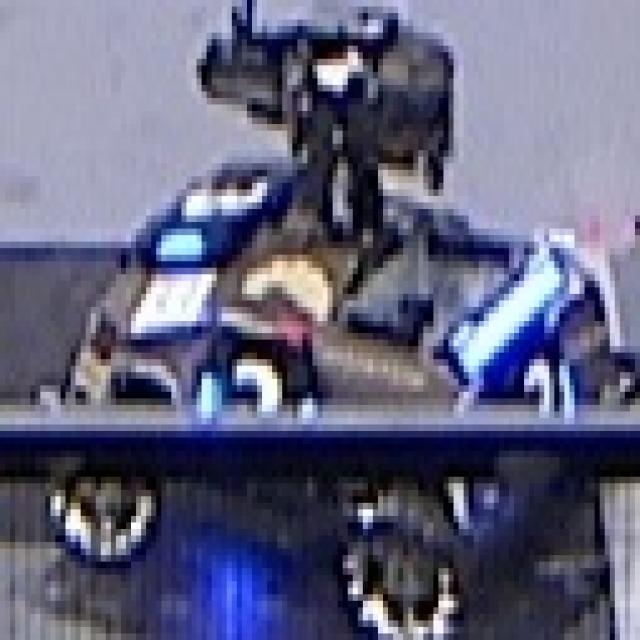B3: (146, 147, 287, 258)
